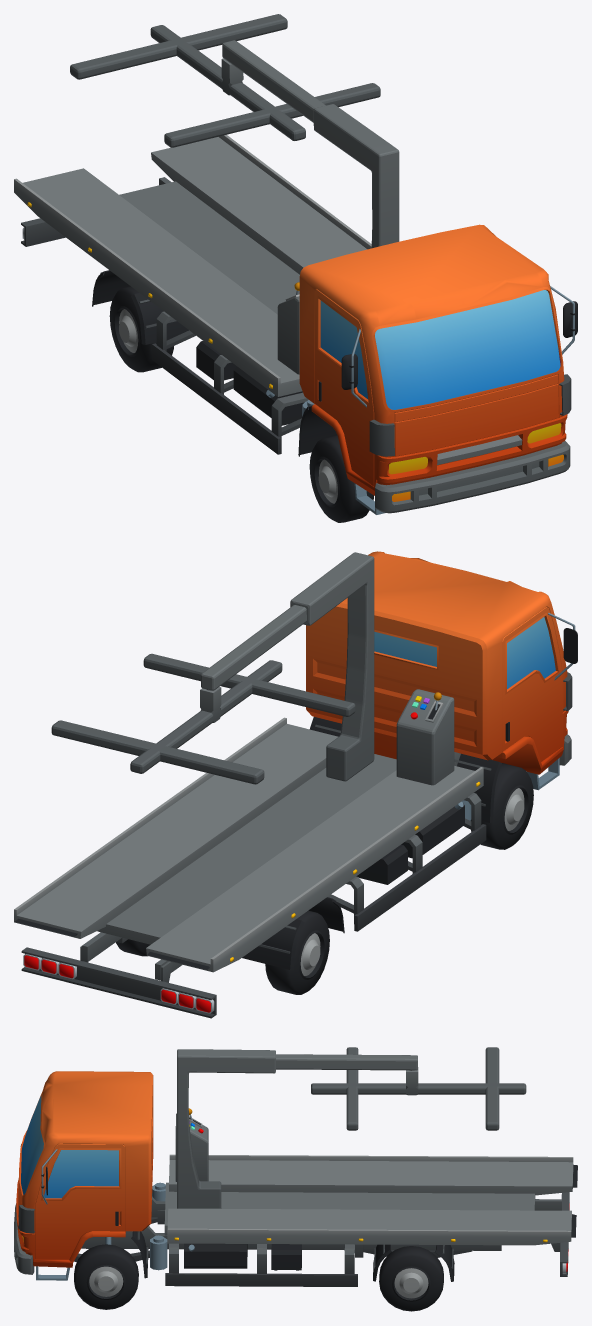
File: RescueCar3.fbx
3 renders of one model, top to bottom at view 1: azimuth 30°, elevation 25°; view 2: azimuth 150°, elevation 25°; view 3: azimuth 270°, elevation 25°, orthographic. The views are drawn at different scales.
Parts seen in each view (by area): view 1: RescueCar.006, Lift_Hang, Lift_Arm; view 2: RescueCar.006, Lift_Arm, Lift_Hang; view 3: RescueCar.006, Lift_Arm, Lift_Hang.
Part boxes in pixels (x1,y1,x2,y2): RescueCar.006: (14, 134, 577, 522); Lift_Hang: (70, 14, 380, 147); Lift_Arm: (222, 40, 399, 248); RescueCar.006: (14, 551, 577, 1018); Lift_Arm: (201, 552, 374, 781); Lift_Hang: (51, 653, 355, 784); RescueCar.006: (14, 1071, 573, 1311); Lift_Arm: (177, 1049, 417, 1208); Lift_Hang: (311, 1047, 526, 1130).
Bounding box in the file's own units: 363 × 449 × 994.
